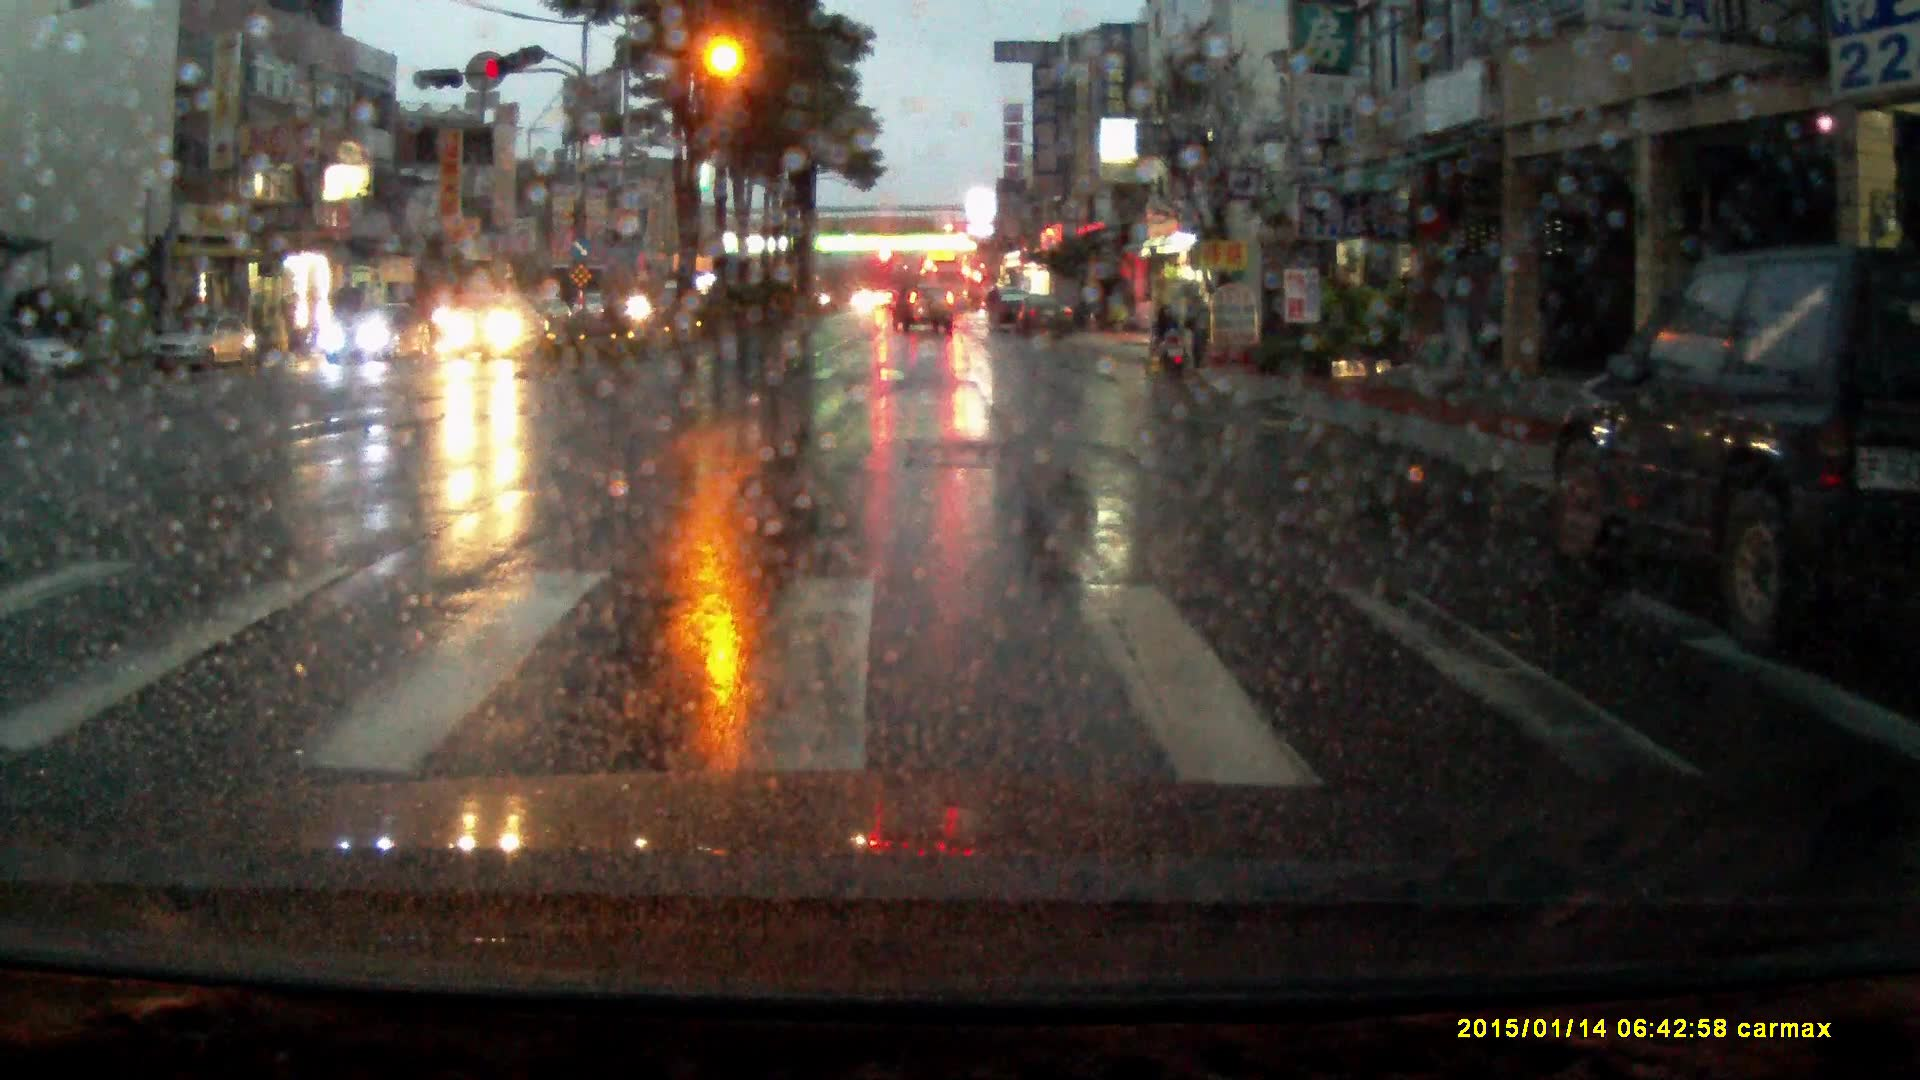rider: (249, 299, 284, 365)
vehicle: (1532, 237, 1920, 653), (149, 299, 261, 370), (319, 302, 436, 366), (446, 287, 546, 359), (1, 319, 79, 378), (893, 280, 957, 332), (1015, 294, 1076, 340), (924, 259, 965, 319), (989, 287, 1028, 330), (572, 291, 613, 318), (862, 283, 899, 311)
